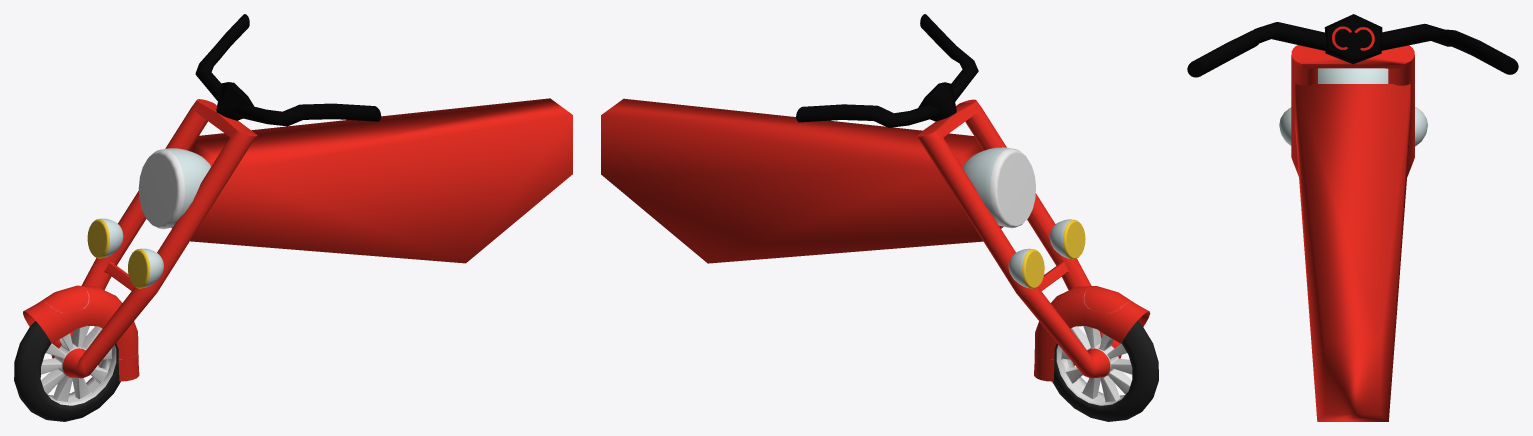
File: motorbike.fbx
3 renders of one model, left to right at view 1: azimuth 30°, elevation 25°; view 2: azimuth 150°, elevation 25°; view 3: azimuth 270°, elevation 25°, orthographic. The views are drawn at different scales.
Visible parts, largest first — view 1: polySurface37; view 2: polySurface37; view 3: polySurface37.
Part boxes in pixels (box(x1,y1,x2,y2)): polySurface37: box(14, 14, 572, 421); polySurface37: box(601, 14, 1158, 421); polySurface37: box(1187, 14, 1518, 421).
Bounding box in the file's own units: 14.28 × 7.51 × 6.09.
Materials: 3 (3 with a texture image).
